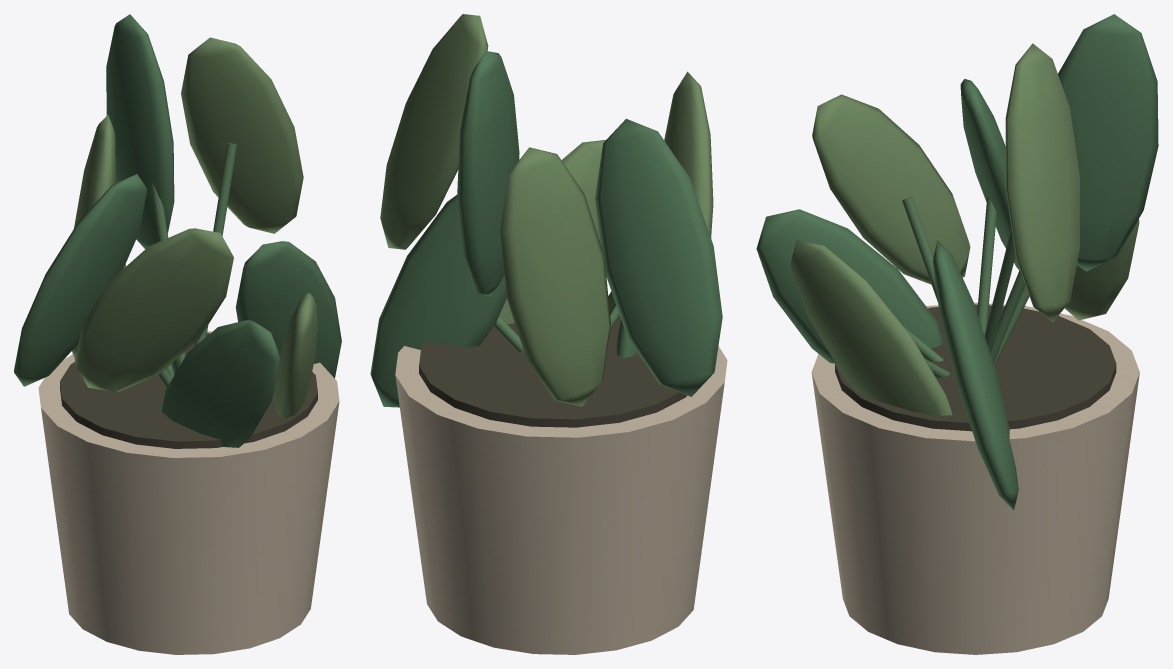
File: plant.glb
The picture shows the model from 3 angles, left to right: view 1: azimuth 30°, elevation 25°; view 2: azimuth 150°, elevation 25°; view 3: azimuth 270°, elevation 25°; orthographic projection. The views are drawn at different scales.
Parts seen in each view (by area): view 1: plant; view 2: plant; view 3: plant.
Part boxes in pixels (left/top/right/bottom): plant: left=14, top=14, right=341, bottom=654; plant: left=370, top=14, right=727, bottom=654; plant: left=756, top=14, right=1158, bottom=654.
Size of the model in its own units: 0.5066 by 0.829 by 0.5142.
Materials: 18 (18 with a texture image).
